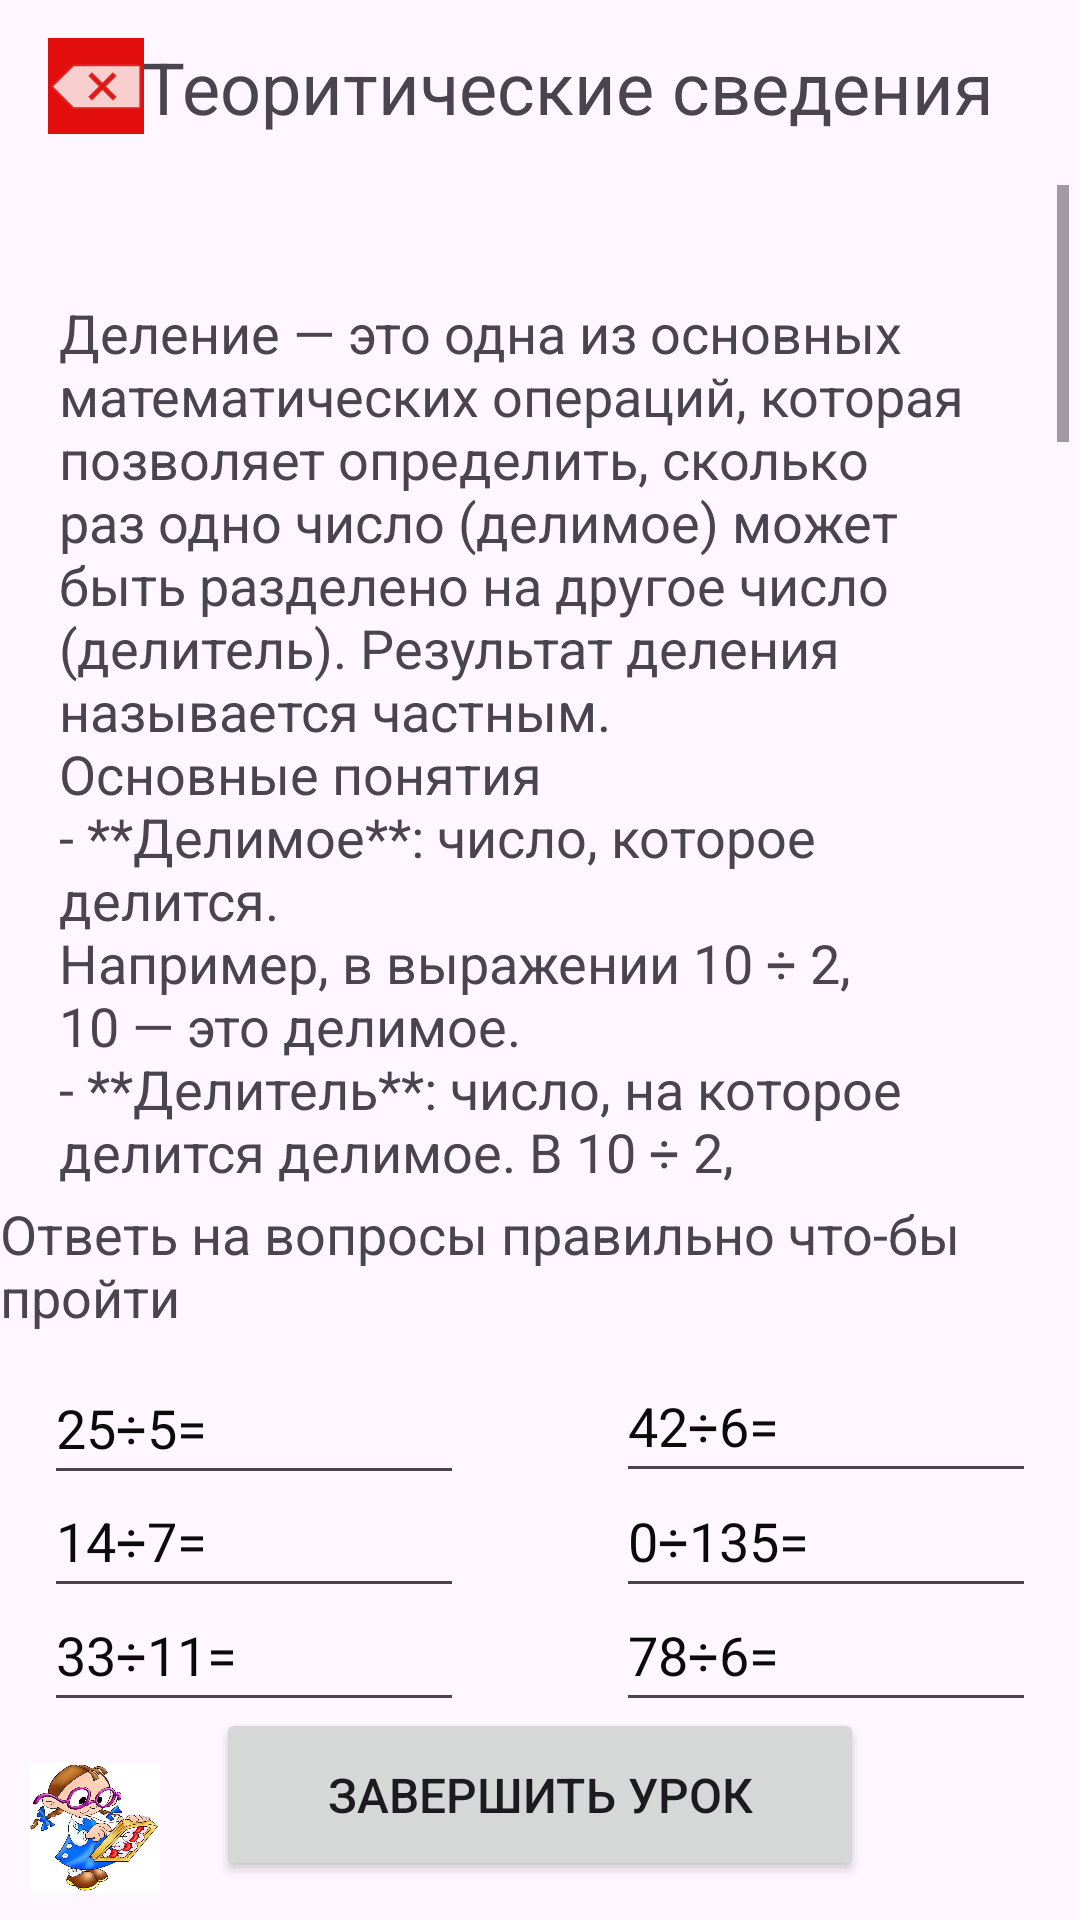

Icons on this 1080×1920 Android screen, each with its box as (x1, y1, x2, y2):
delete: (48, 38, 144, 134)
viewmath: (30, 1764, 158, 1891)
